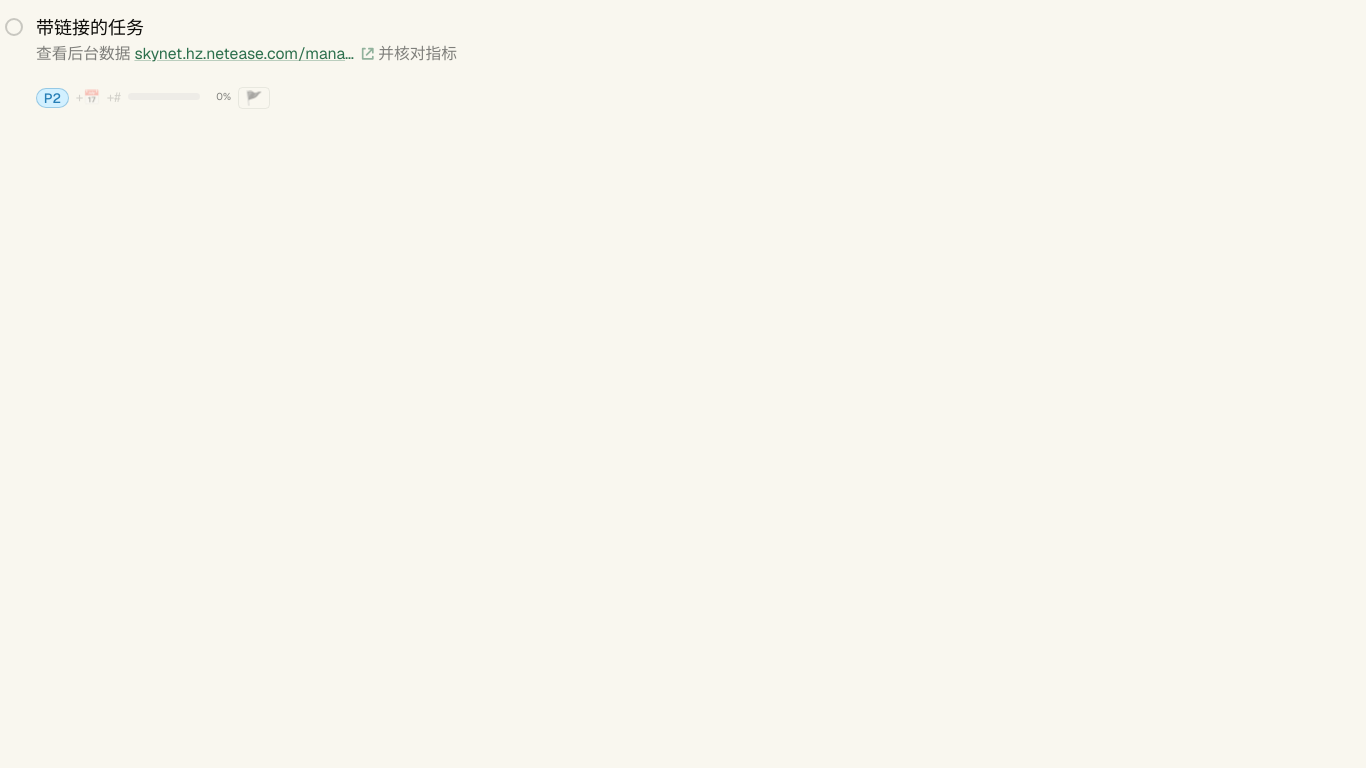
任务描述 URL 可点击（验收） › P4 正向: 移动端 TaskItem 点击描述行非链接文本区域 → 展开 embedded TaskDetail（进展更新 可见）
Check: the link "skynet.hz.netease.com/manage" is shown, box 134,43 -> 374,65
Click the element showing "查看后台数据 skynet.hz.netease.com/manage 并核对指标".
click(247, 53)  # box 36,43 -> 457,64
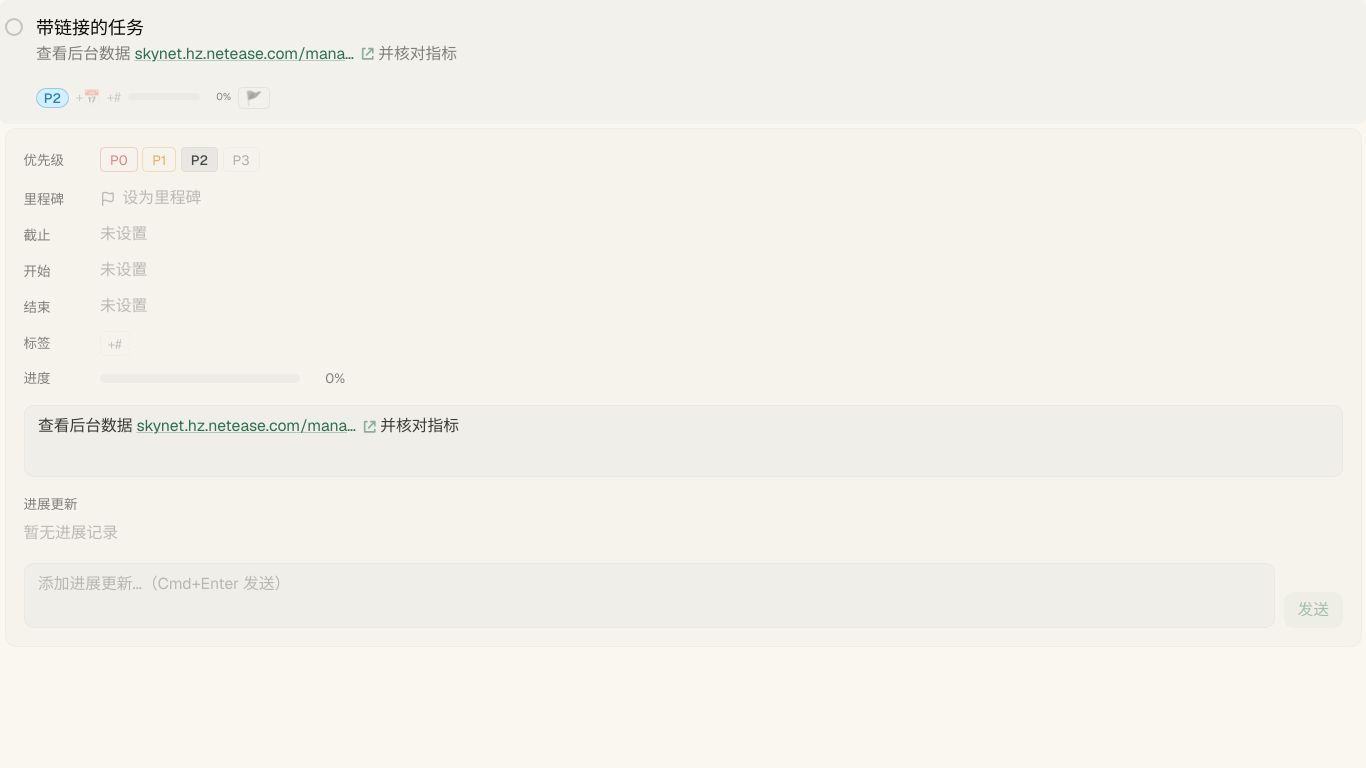
Check: the text "进展更新" is shown, box 24,496 -> 78,514
